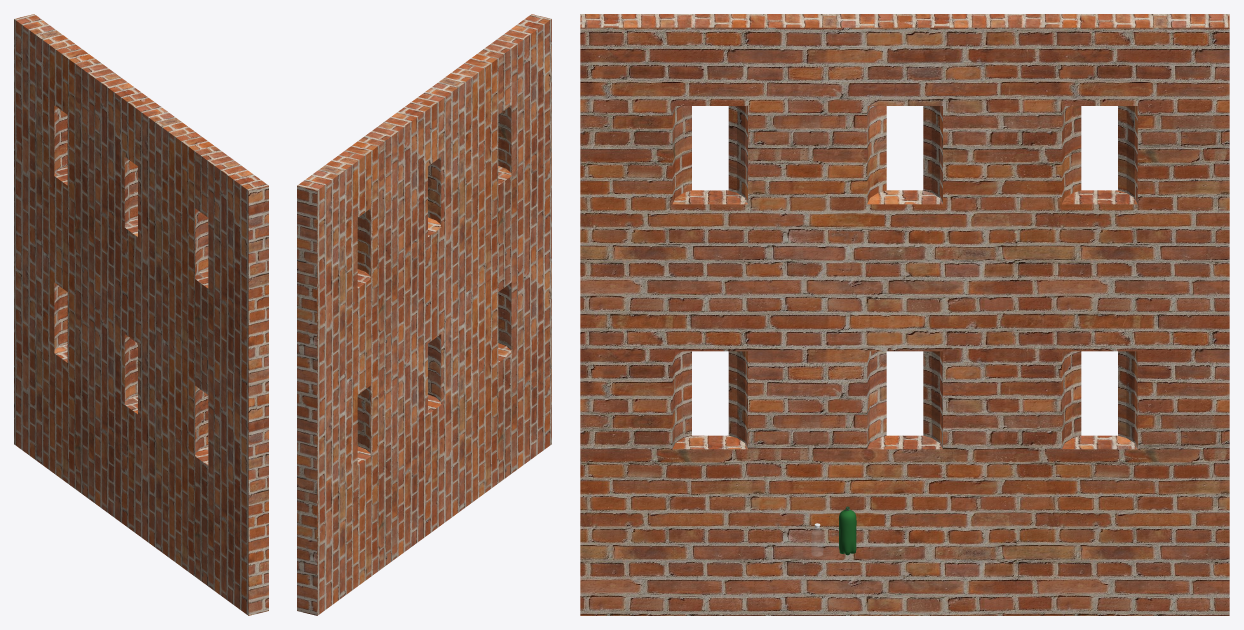
Rendered from modleV2.glb.
3 views of the same model, side by side, from view 1: azimuth 30°, elevation 25°; view 2: azimuth 150°, elevation 25°; view 3: azimuth 270°, elevation 25° (orthographic). The views are drawn at different scales.
Parts seen in each view (by area): view 1: Wall; view 2: Wall; view 3: Wall.
Part boxes in pixels (x1,y1,x2,y2): Wall: [14, 14, 268, 615]; Wall: [297, 14, 551, 615]; Wall: [580, 14, 1229, 615].
Bounding box in the file's own units: 1.27 × 6 × 6.
7 materials, 1 textured.
